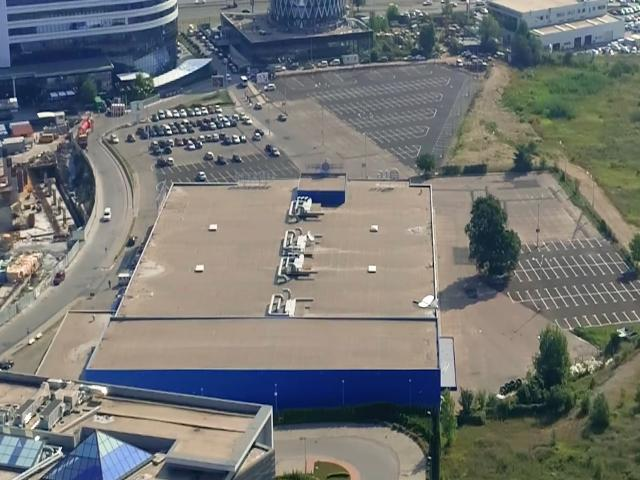plane: (412, 297, 439, 310)
